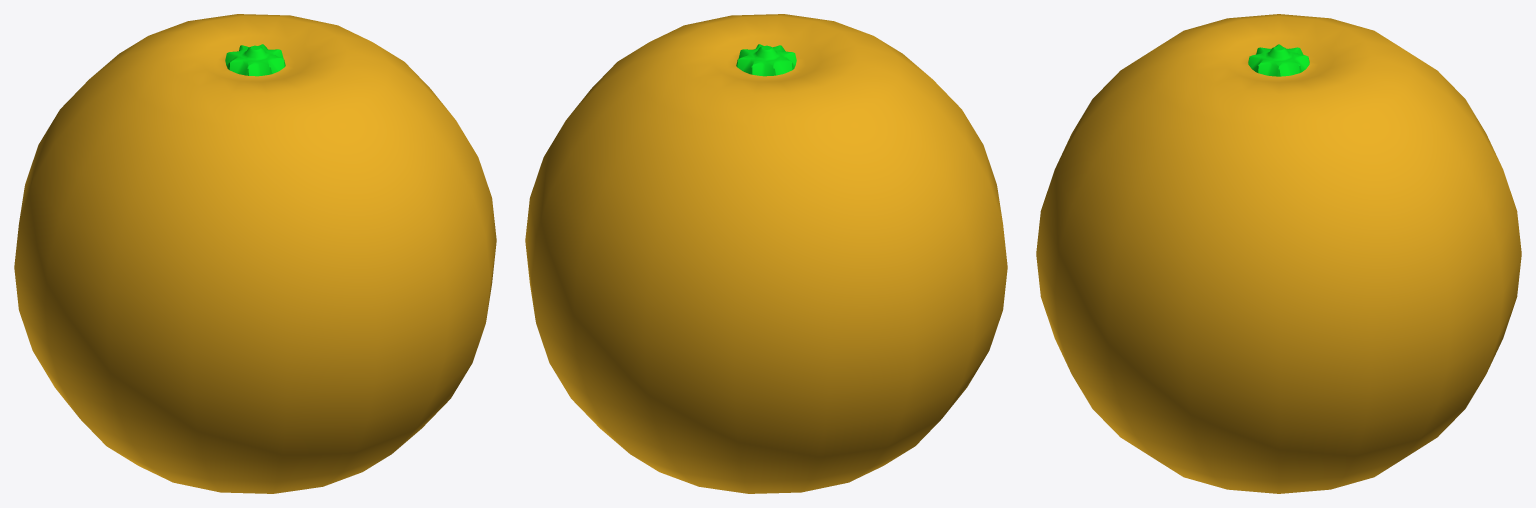
The model's file is Orange.fbx.
3 views of the same model, side by side, from view 1: azimuth 30°, elevation 25°; view 2: azimuth 150°, elevation 25°; view 3: azimuth 270°, elevation 25° (orthographic).
Parts seen in each view (by area): view 1: Orange; view 2: Orange; view 3: Orange.
Boxes of the visible parts, bbox=[...] form: Orange: bbox=[14, 14, 496, 493]; Orange: bbox=[525, 14, 1007, 493]; Orange: bbox=[1036, 14, 1521, 493].
Size of the model in its own units: 20 by 18.36 by 20.
